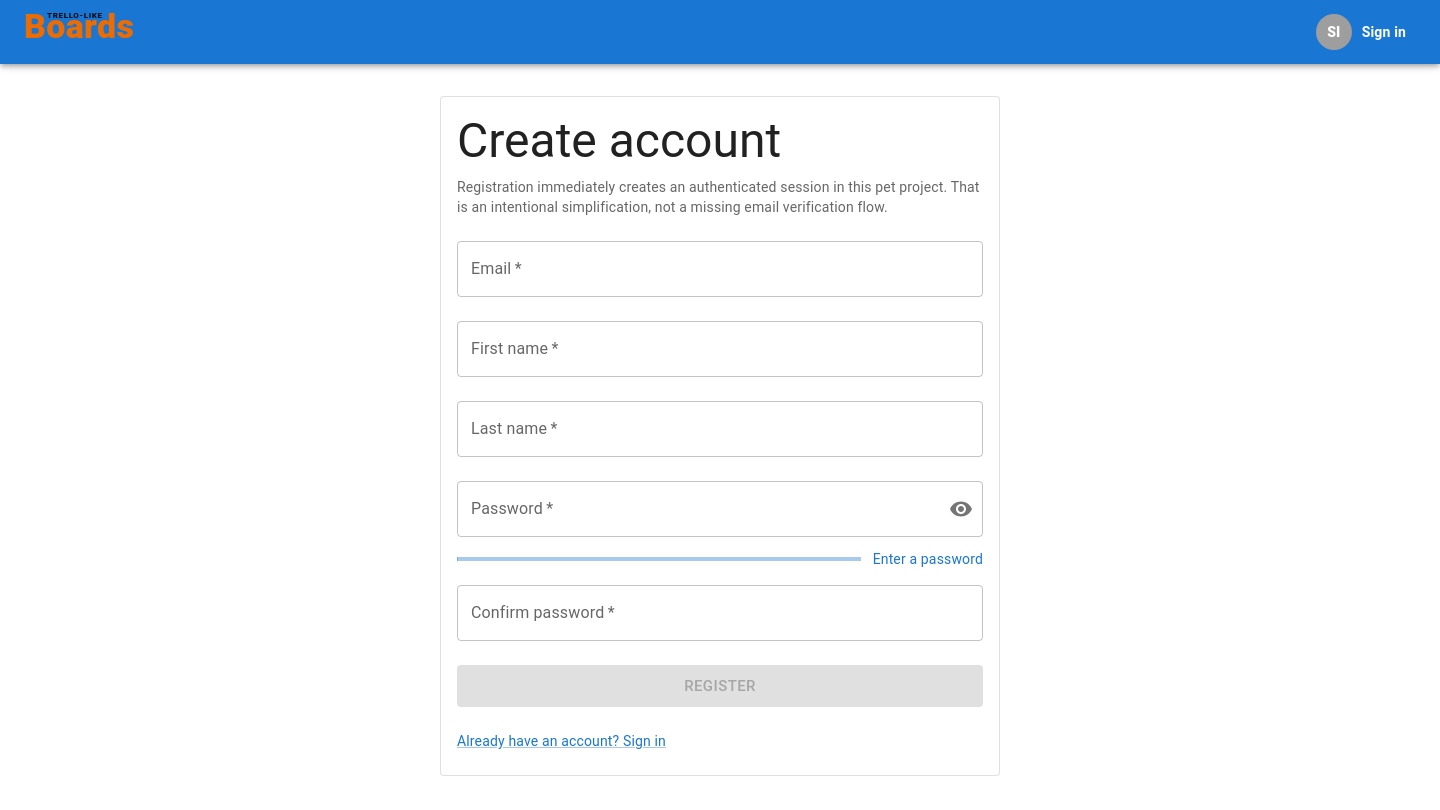
Test: RegisterPage › keeps the register button disabled until the form is valid
Expected: the button "Register" is disabled, 457,665 -> 983,707
In the field labelled "Email *": (720, 269) 457,241 -> 983,297, type "demo@example.com"
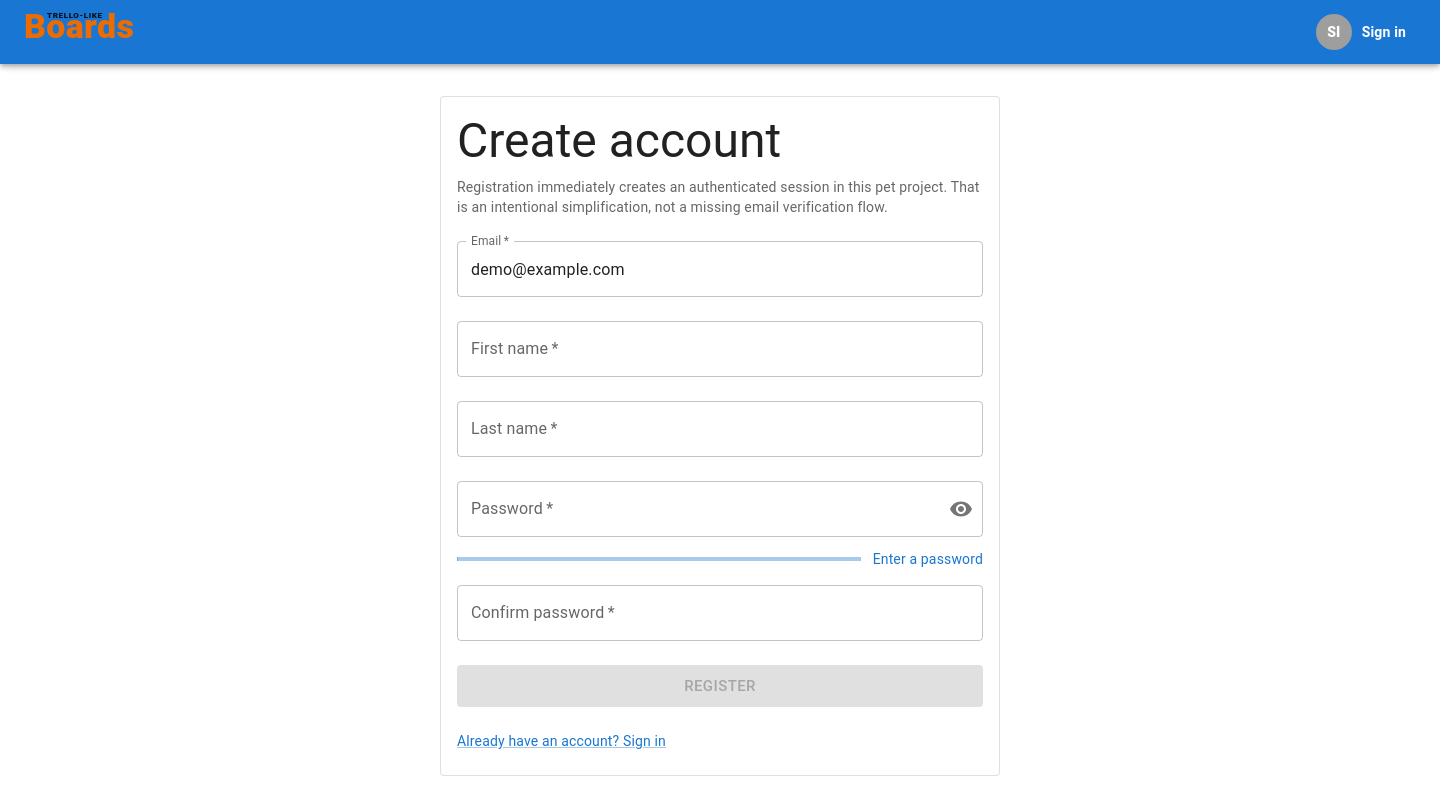
In the field labelled "First name *": (720, 349) 457,321 -> 983,377, type "Demo"
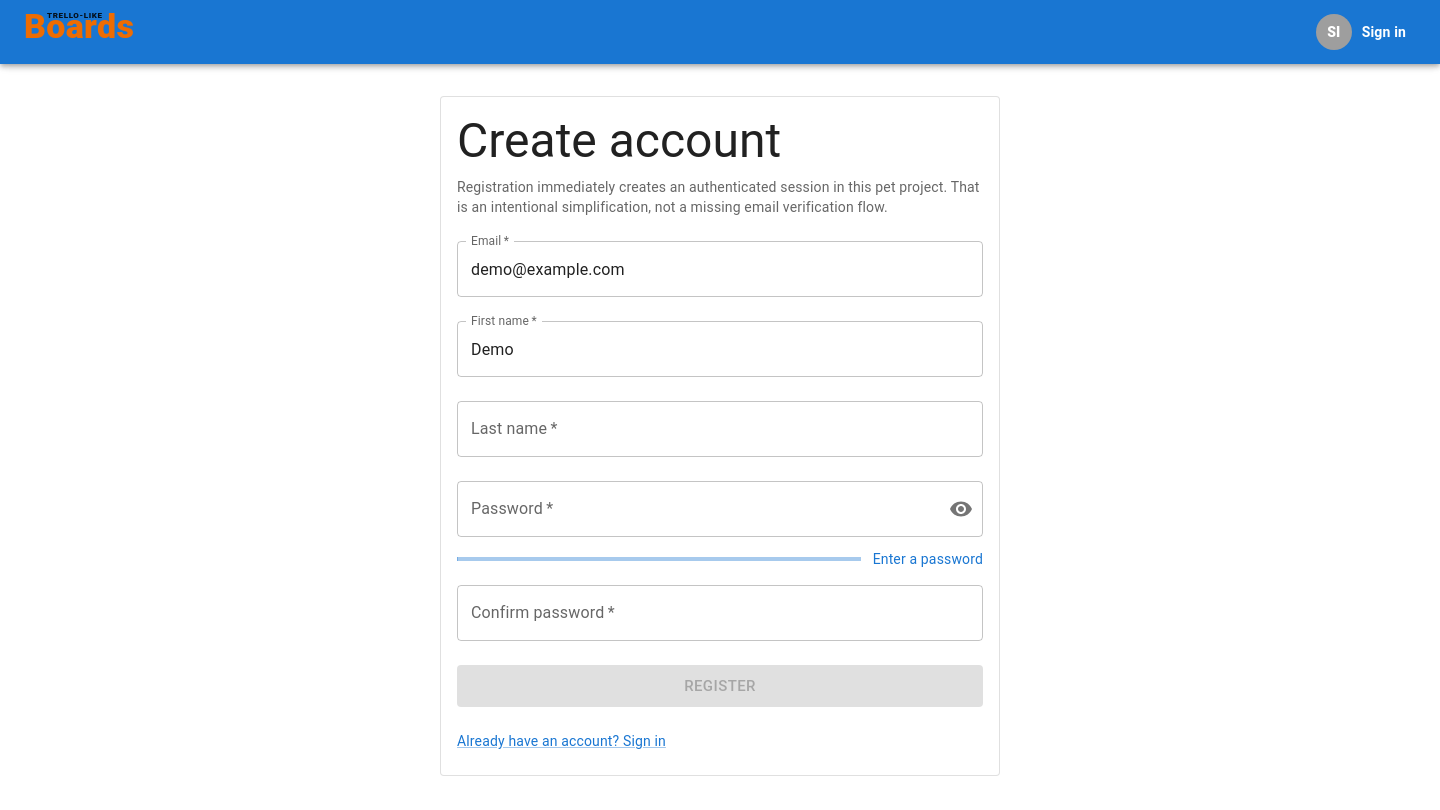
In the field labelled "Last name *": (720, 429) 457,401 -> 983,457, type "User"
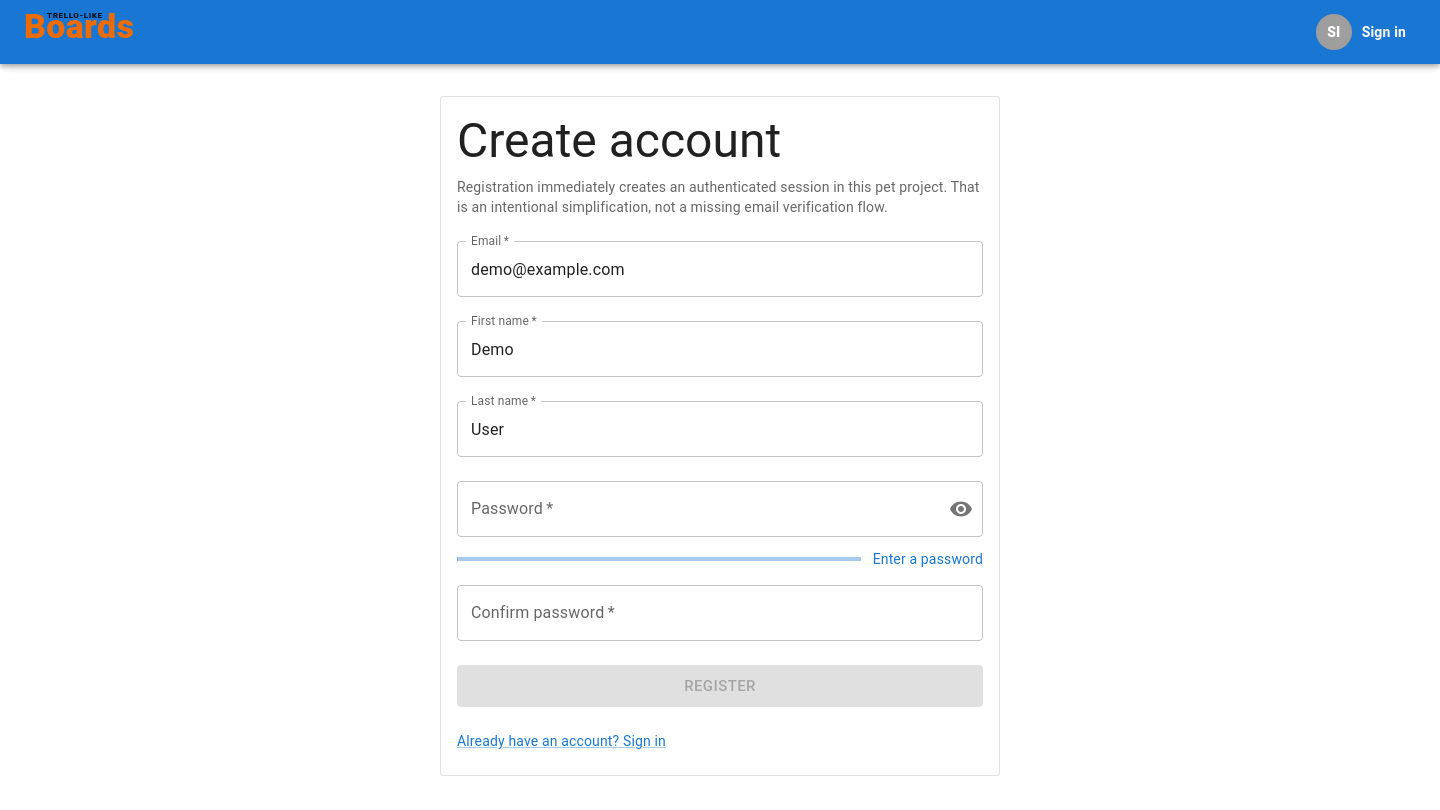
In the password field labelled "Password *": (695, 509) 457,481 -> 933,537, type "StrongPass1!"
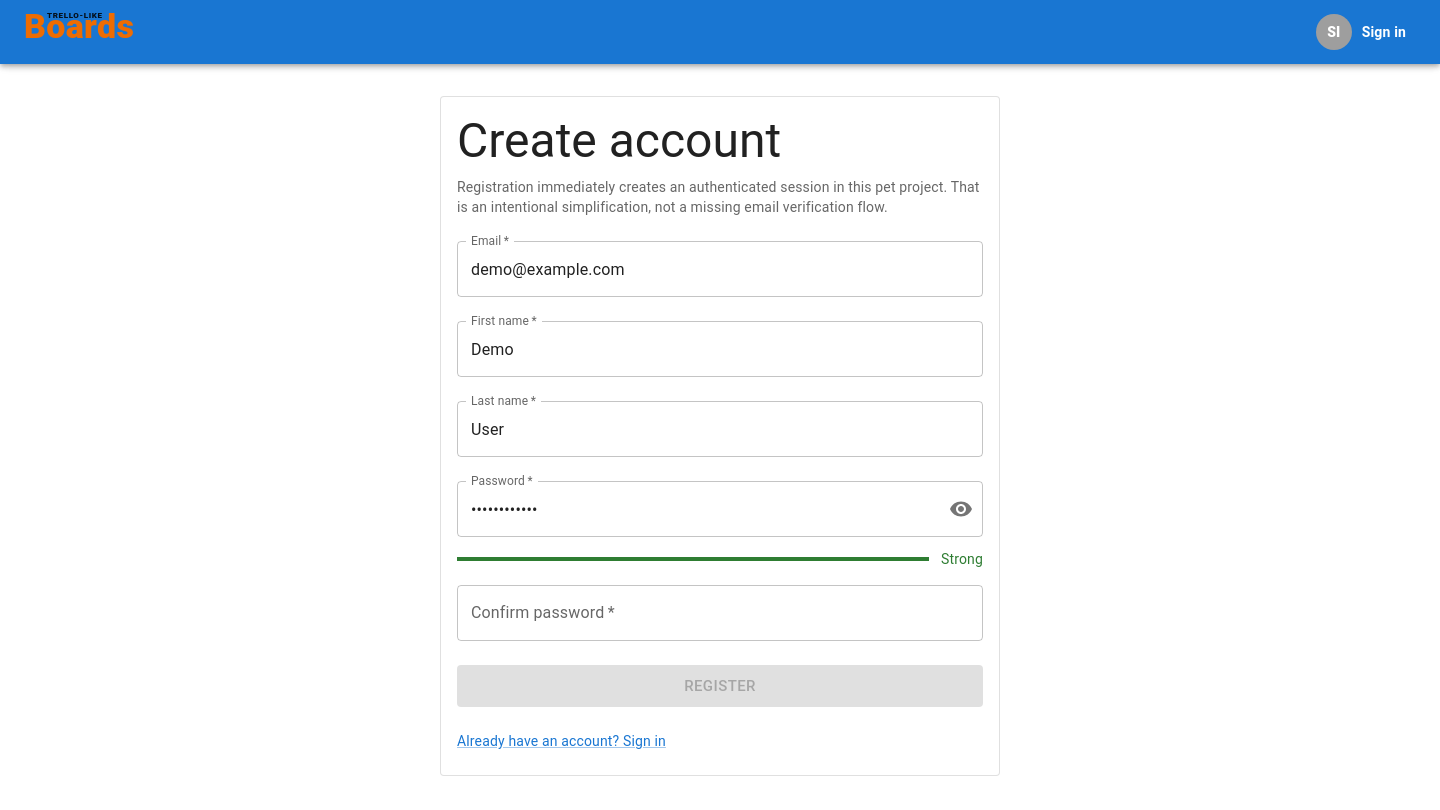
In the password field labelled "Confirm password *": (720, 613) 457,585 -> 983,641, type "StrongPass1!"
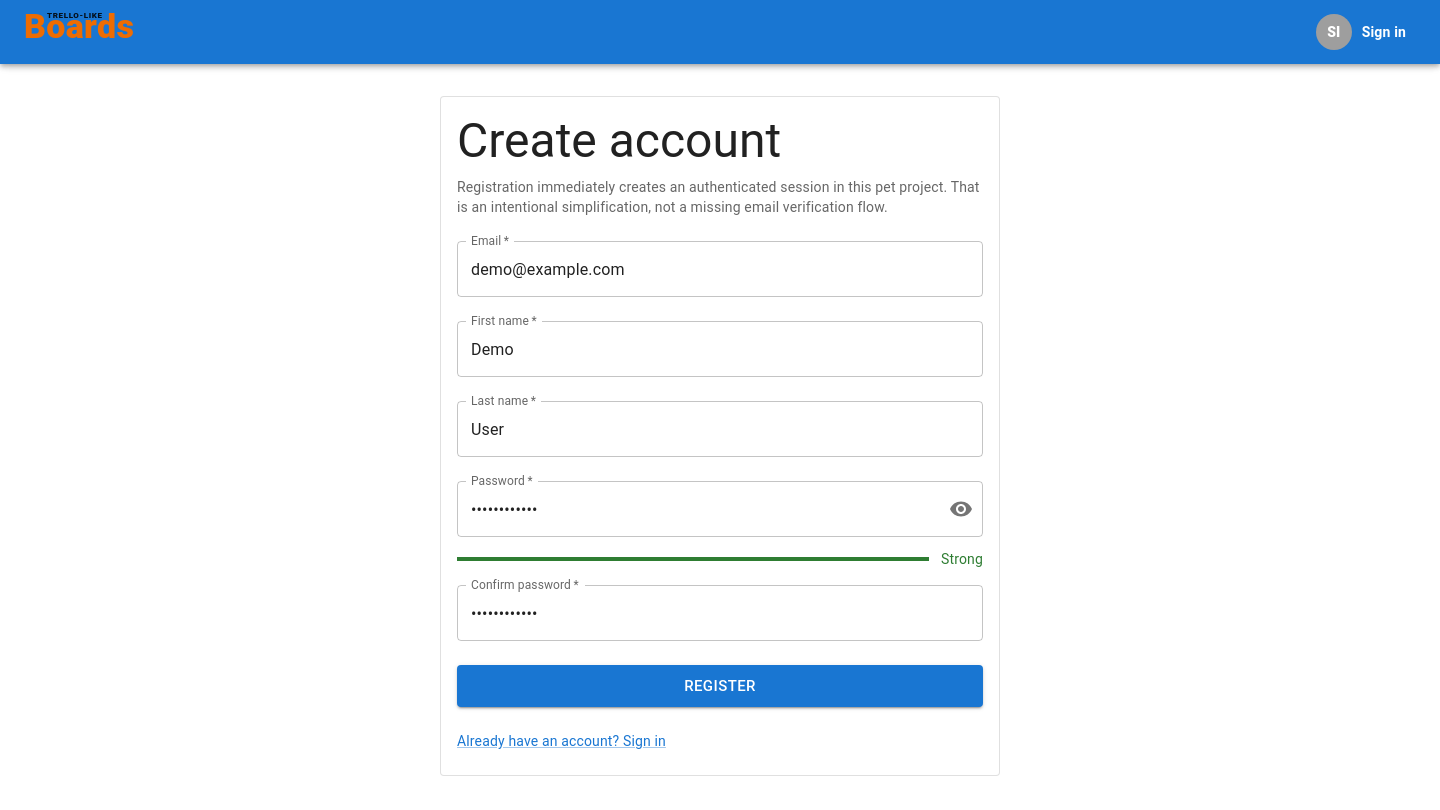
Now the button "Register" is enabled, box 457,665 -> 983,707
